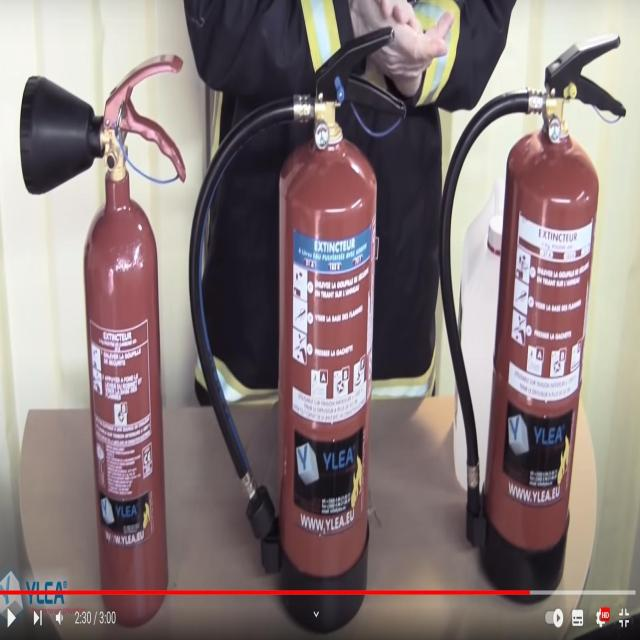fire_extinguisher: (186, 16, 409, 640), (434, 27, 630, 610), (14, 44, 188, 639)
